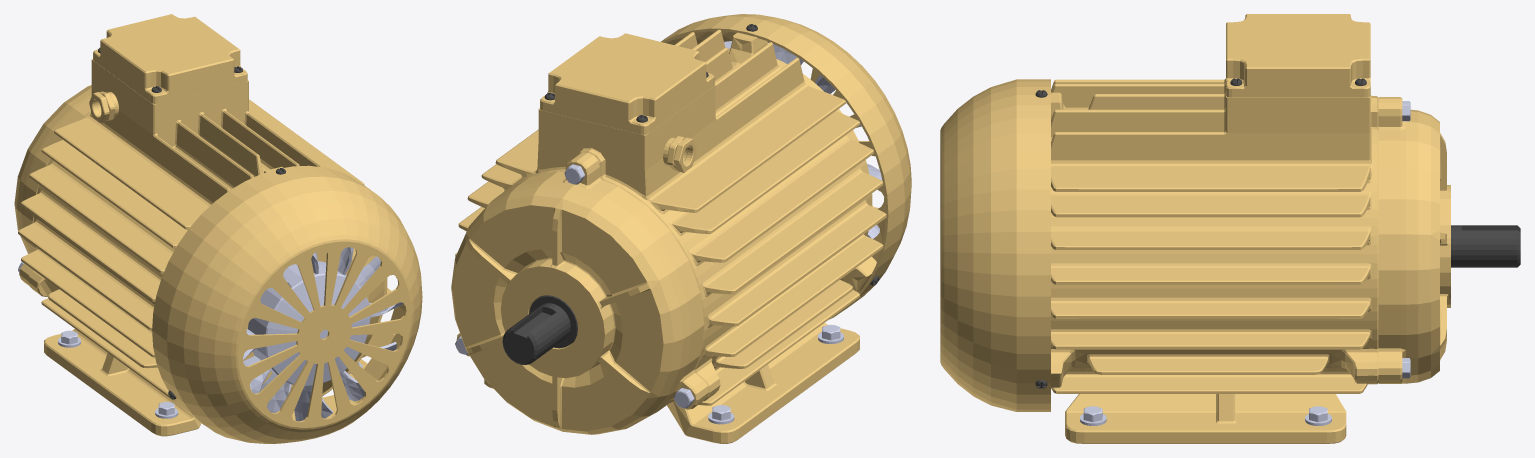
File: Motor Electric N110122.obj
3 views of the same model, side by side, from view 1: azimuth 30°, elevation 25°; view 2: azimuth 150°, elevation 25°; view 3: azimuth 270°, elevation 25° (orthographic). The views are drawn at different scales.
Parts seen in each view (by area): view 1: MotorCorpus_001, FanCover_001, Box001, Fan_001, PulleyEndplate_001; view 2: MotorCorpus_001, PulleyEndplate_001, Box001, FanCover_001, Shaft_001, Fan_001; view 3: MotorCorpus_001, FanCover_001, PulleyEndplate_001, Box001, Shaft_001.
Boxes of the visible parts, bbox=[...] form: MotorCorpus_001: bbox=[18, 59, 395, 436]; FanCover_001: bbox=[152, 165, 422, 443]; Box001: bbox=[93, 14, 247, 103]; Fan_001: bbox=[243, 247, 403, 421]; PulleyEndplate_001: bbox=[14, 85, 91, 285]; MotorCorpus_001: bbox=[455, 29, 886, 443]; PulleyEndplate_001: bbox=[451, 152, 708, 434]; Box001: bbox=[540, 33, 714, 134]; FanCover_001: bbox=[661, 14, 911, 319]; Shaft_001: bbox=[502, 295, 577, 364]; Fan_001: bbox=[724, 41, 882, 238]; MotorCorpus_001: bbox=[1051, 78, 1378, 443]; FanCover_001: bbox=[940, 79, 1050, 411]; PulleyEndplate_001: bbox=[1378, 97, 1450, 383]; Box001: bbox=[1226, 14, 1370, 97]; Shaft_001: bbox=[1451, 225, 1520, 267].
Bounding box in the file's own units: 88.58 × 99.39 × 153.
